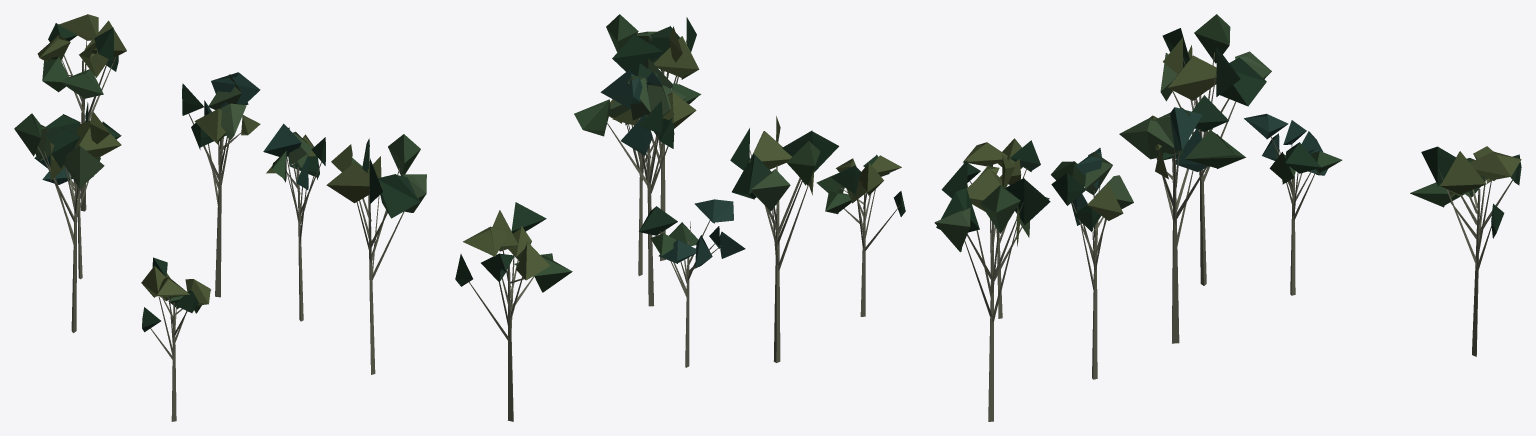
File: forest_19_19.dae
3 renders of one model, left to right at view 1: azimuth 30°, elevation 25°; view 2: azimuth 150°, elevation 25°; view 3: azimuth 270°, elevation 25°, orthographic. The views are drawn at different scales.
Visible parts, largest first — view 1: Node; view 2: Node; view 3: Node.
Boxes of the visible parts, x1,y1,x2,y2 form: Node: (14,14,426,421); Node: (455,14,905,421); Node: (934,14,1521,421).
Size of the model in its own units: 6.08 by 9.1 by 4.94.
